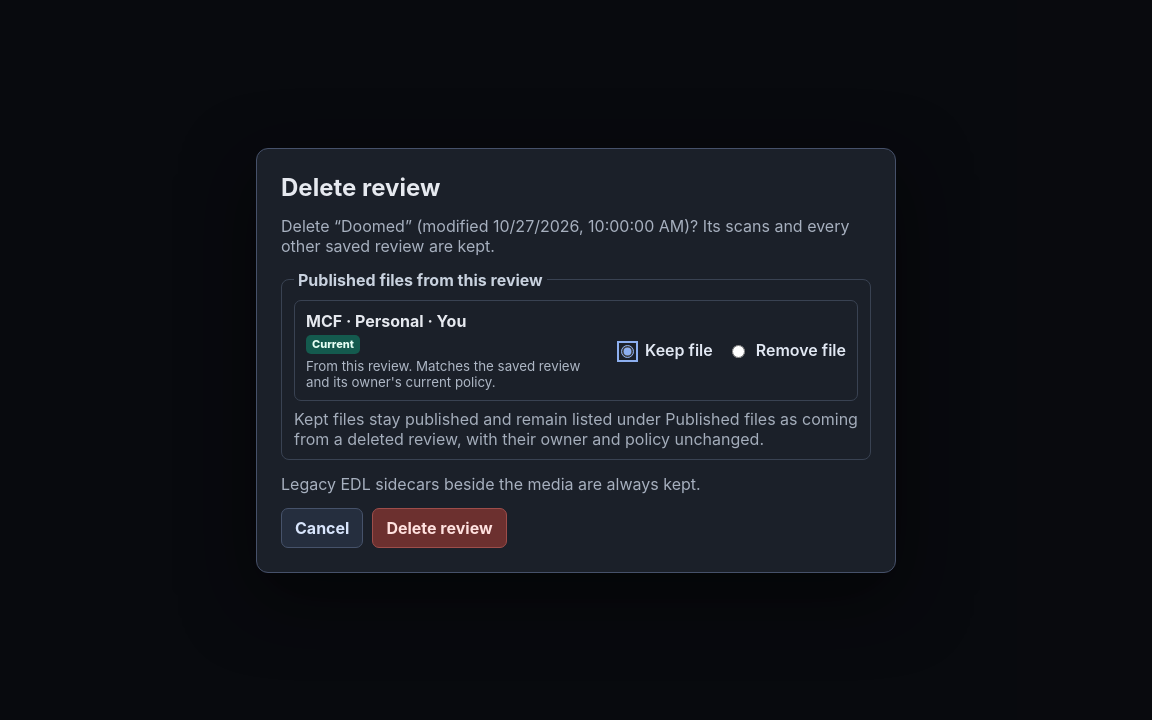
Scenario: ignores an older preview that fails after the newer one arrived
The width and height of the screenshot is (1152, 720).
Later steps or results of the test are not shown.
What coordinates should you click on to do the following:
click the radio button labelled "Remove file"
I would click on:
 (738, 352)
Its box is x1=732 y1=345 x2=745 y2=358.
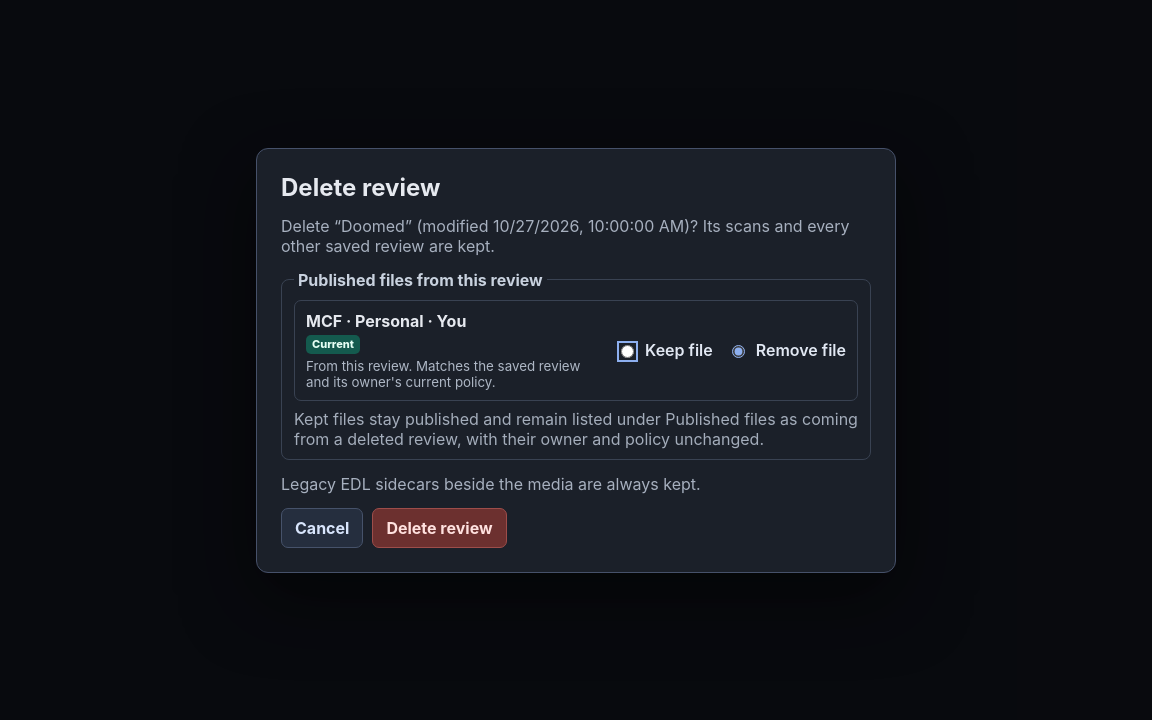
Expected: the radio button labelled "Remove file" is checked, x1=732 y1=345 x2=745 y2=358
